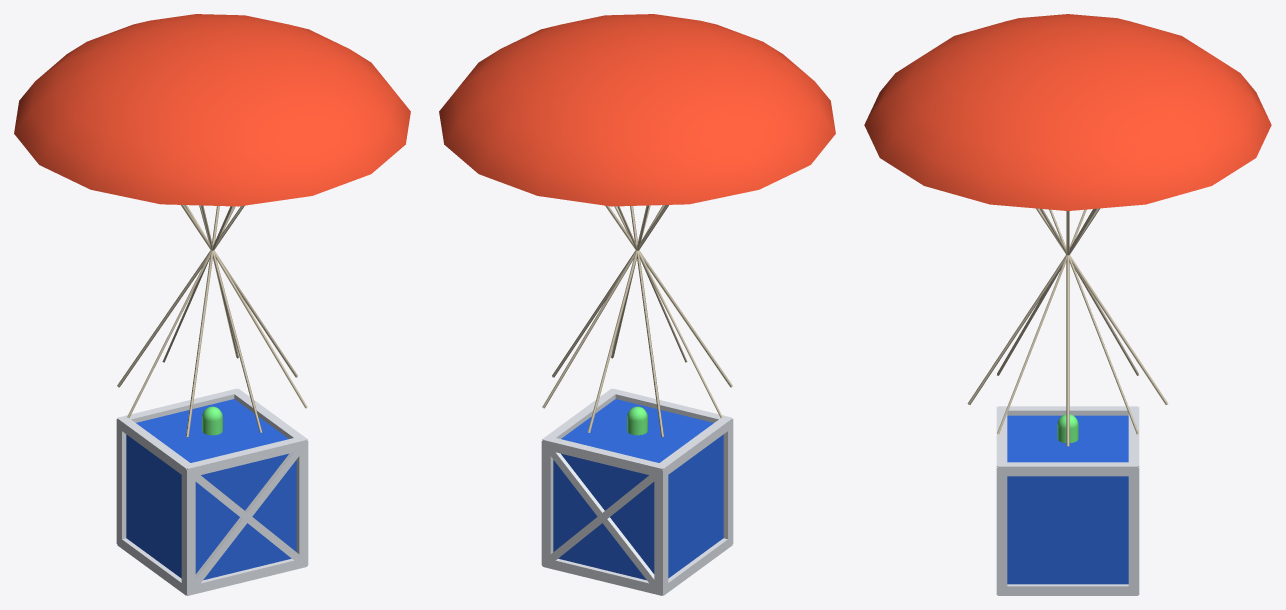
The model's file is SupplyDrop.obj.
3 views of the same model, side by side, from view 1: azimuth 30°, elevation 25°; view 2: azimuth 150°, elevation 25°; view 3: azimuth 270°, elevation 25° (orthographic).
Visible parts, largest first — view 1: Canopy, CrateBody, CrateFrame, Ropes, CrateX, Beacon; view 2: Canopy, CrateBody, CrateFrame, Ropes, CrateX, Beacon; view 3: Canopy, CrateBody, CrateFrame, Ropes.
Boxes of the visible parts, x1,y1,x2,y2 form: Canopy: (14,14,410,206); CrateBody: (126,399,296,580); CrateFrame: (116,388,308,595); Ropes: (117,205,307,436); CrateX: (193,449,299,584); Beacon: (202,406,222,435); Canopy: (439,14,835,206); CrateBody: (553,399,723,580); CrateFrame: (541,388,733,595); Ropes: (542,205,732,436); CrateX: (550,449,656,584); Beacon: (627,406,647,435); Canopy: (864,14,1271,210); CrateBody: (1007,415,1128,584); CrateFrame: (996,406,1139,595); Ropes: (967,208,1168,446).
Bounding box in the file's own units: 3.08 × 4.34 × 3.08.
